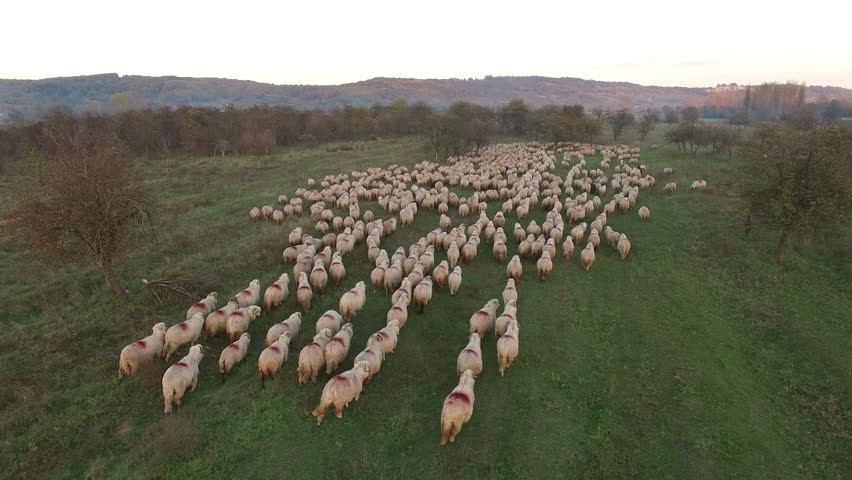sheep: (313, 358, 371, 426), (160, 337, 207, 412), (435, 365, 479, 445), (118, 321, 171, 381), (214, 330, 258, 384), (165, 311, 207, 364), (257, 328, 296, 382), (323, 323, 361, 373), (495, 317, 524, 378), (265, 309, 305, 348), (468, 296, 502, 340), (455, 330, 485, 379), (367, 319, 405, 356), (340, 278, 371, 322), (263, 272, 293, 313), (230, 276, 263, 312), (292, 271, 319, 311), (413, 270, 437, 313), (329, 251, 352, 284), (445, 265, 471, 294), (382, 257, 404, 291), (418, 243, 441, 274), (535, 247, 556, 278), (578, 239, 601, 266), (502, 276, 520, 304), (336, 231, 357, 255), (505, 254, 524, 277), (616, 233, 632, 260), (462, 239, 480, 262), (283, 243, 304, 262), (446, 240, 460, 266), (390, 247, 408, 267), (366, 228, 382, 250), (562, 234, 575, 260), (286, 226, 302, 245), (512, 222, 526, 243), (571, 222, 586, 241), (248, 205, 261, 223), (589, 220, 604, 235)
